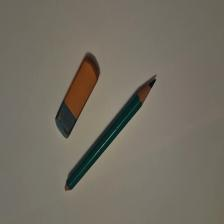eraser: (56, 59, 100, 141)
pencil: (66, 80, 157, 193)
